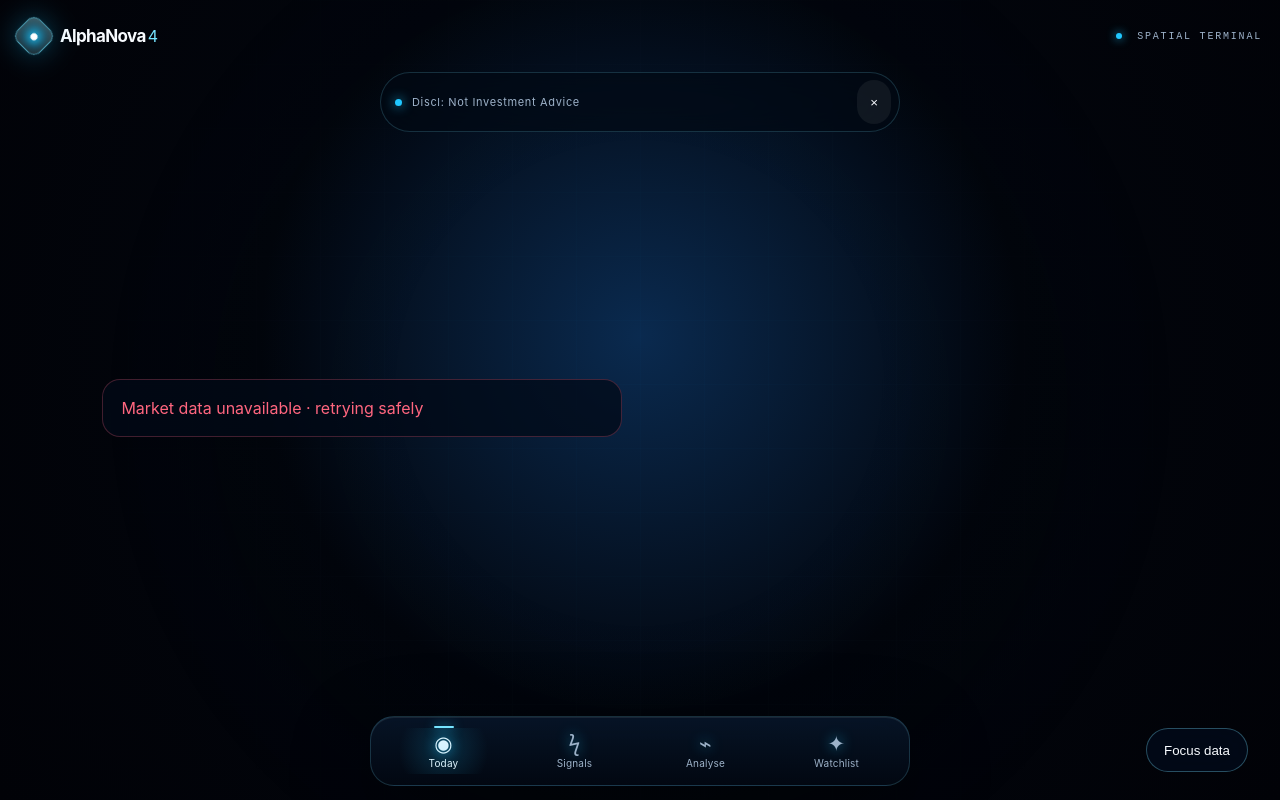
Test: AlphaNova4 shell › keeps the acknowledged compliance notice reopenable
Expected: the text "Discl: Not Investment Advice" is shown, 412,95 -> 580,109
Click the button named "Dismiss compliance notice" at (874, 102), box 857,80 -> 891,124
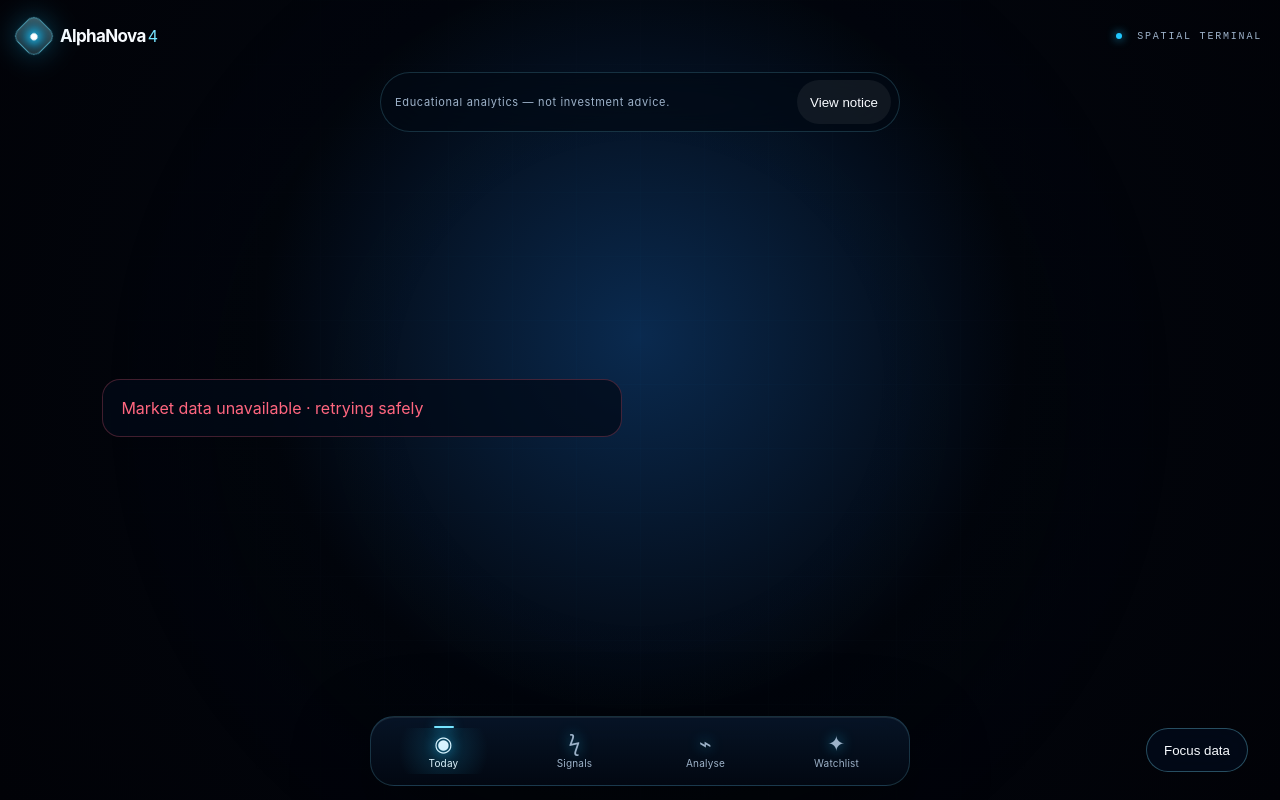
Result: the text "Educational analytics — not investment advice." is shown at 395,95 -> 670,109
Click the button "View notice" at (844, 102), box 797,80 -> 891,124
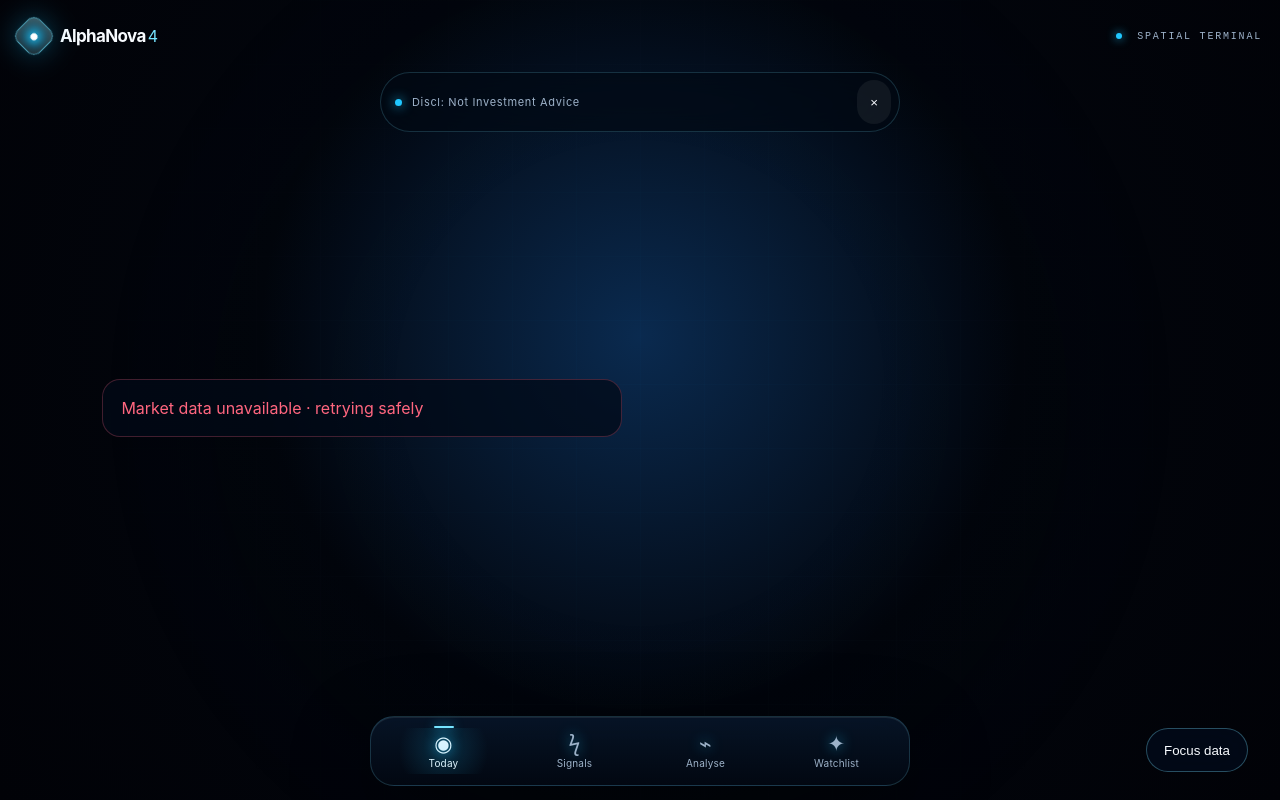
Result: the text "Discl: Not Investment Advice" is shown at 412,95 -> 580,109
